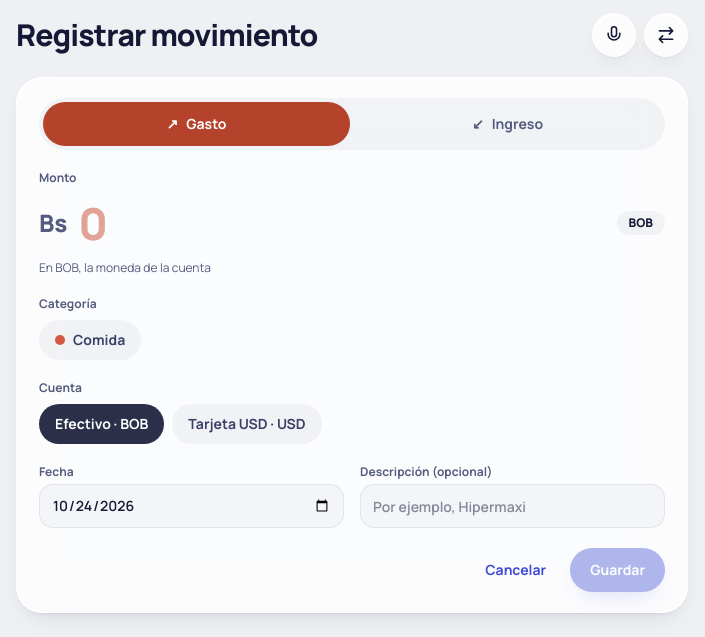
Test: registro por voz › what is missing blocks Confirmar
The image size is (705, 637).
Click the button named "Dictar" at (614, 34), box [592,12,636,56]
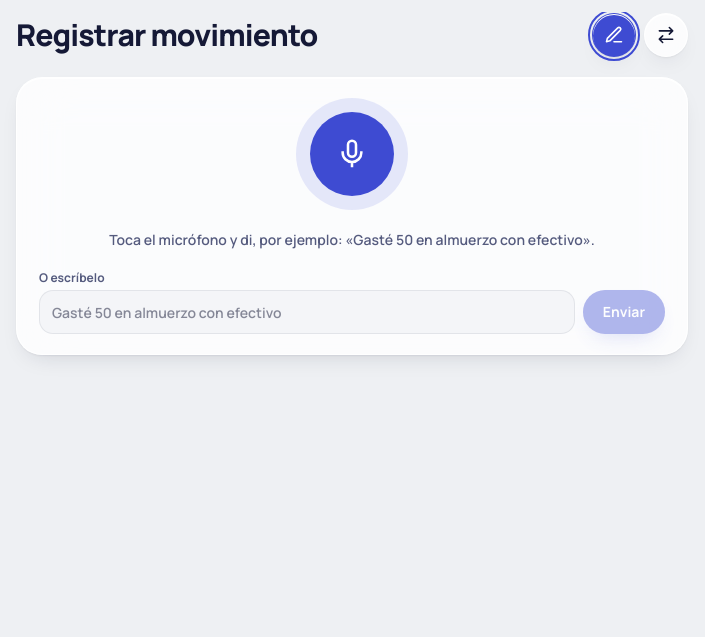
Type "Gasté 50" into the field labelled "O escríbelo" at (307, 312), box [39,290,575,334]
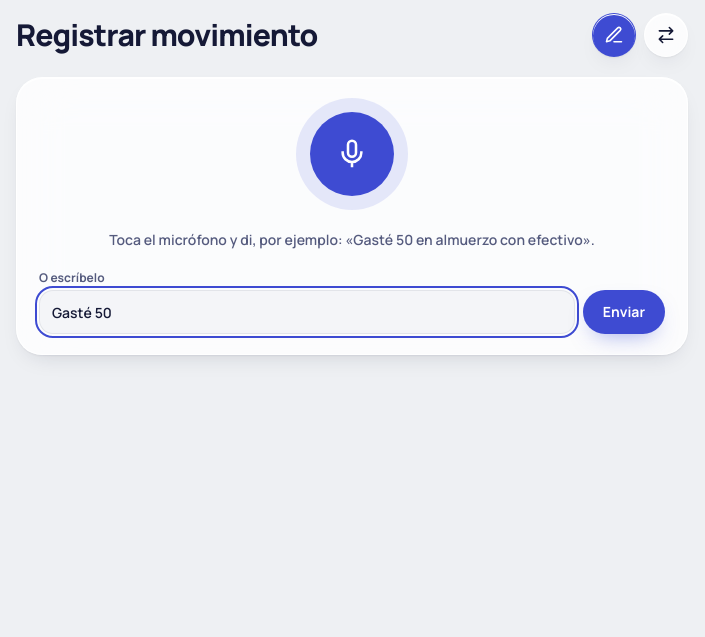
Click the button "Enviar" at (624, 312), box [583,290,665,334]
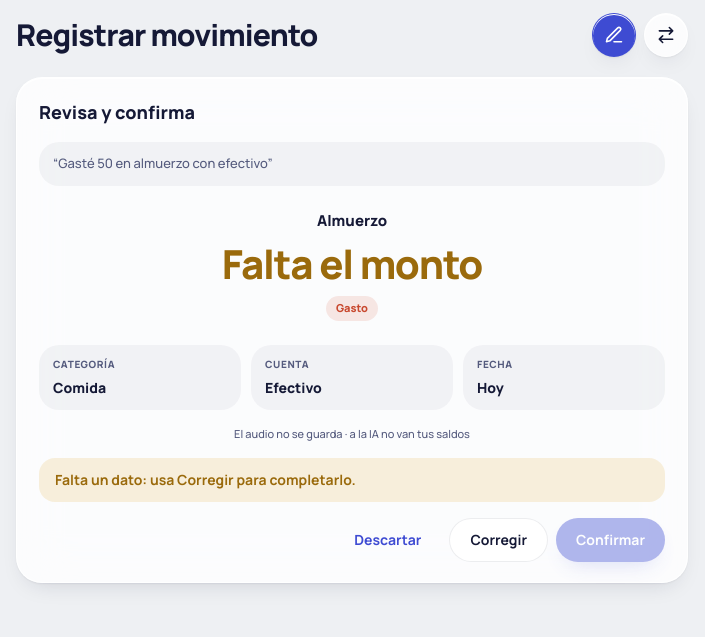
Now the text "Falta el monto" is shown, box [222,236,482,292]
Now the button "Confirmar" is disabled, box [556,518,665,562]
